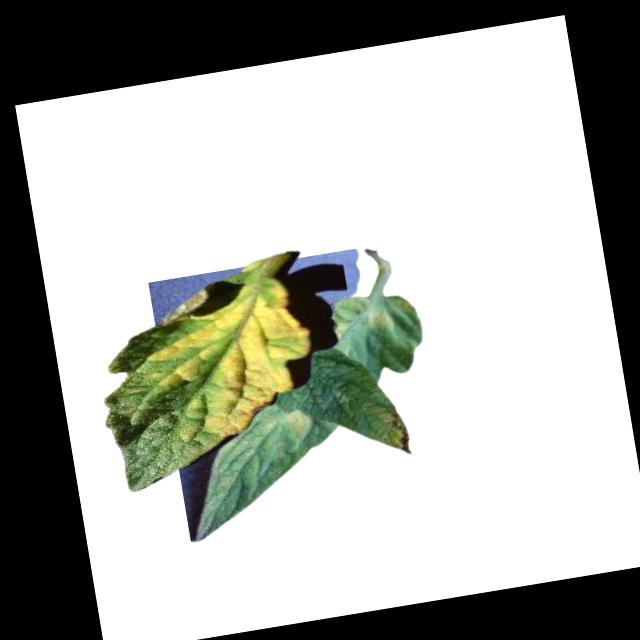Leaf_Mold: (103, 271, 324, 451), (368, 400, 412, 460), (259, 408, 313, 444)
